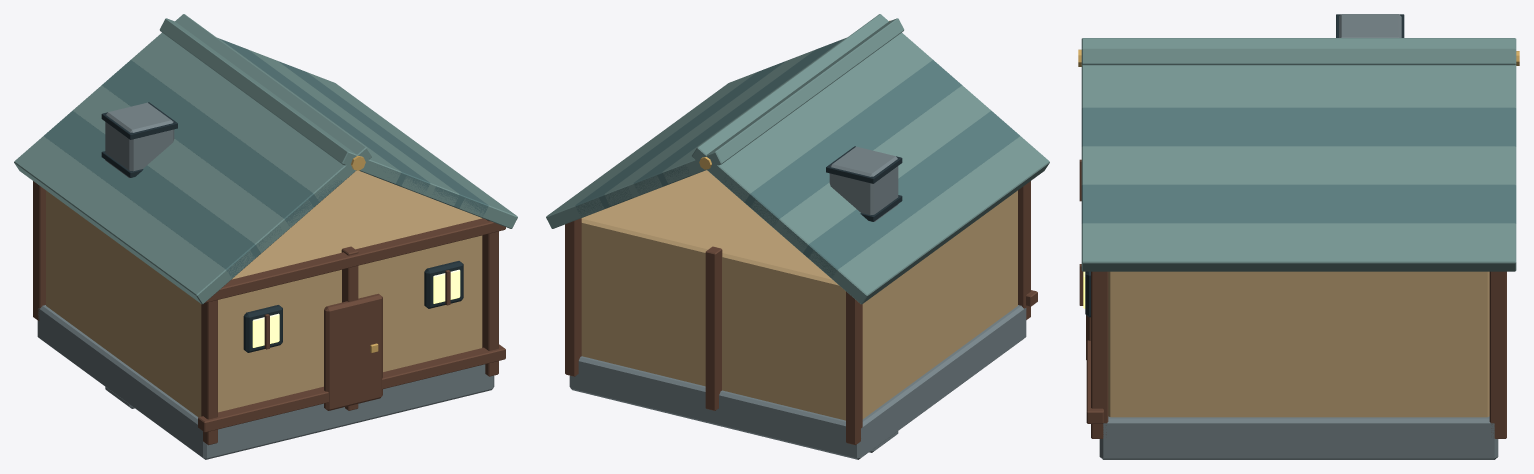
Rendered from workshop.glb.
3 views of the same model, side by side, from view 1: azimuth 30°, elevation 25°; view 2: azimuth 150°, elevation 25°; view 3: azimuth 270°, elevation 25° (orthographic). The views are drawn at different scales.
Visible parts, largest first — view 1: Geometry; view 2: Geometry; view 3: Geometry.
Boxes of the visible parts, left/top/right/bottom form: Geometry: left=14, top=14, right=517, bottom=459; Geometry: left=546, top=14, right=1049, bottom=459; Geometry: left=1078, top=14, right=1519, bottom=459.
Size of the model in its own units: 3.09 by 2.86 by 3.1.
